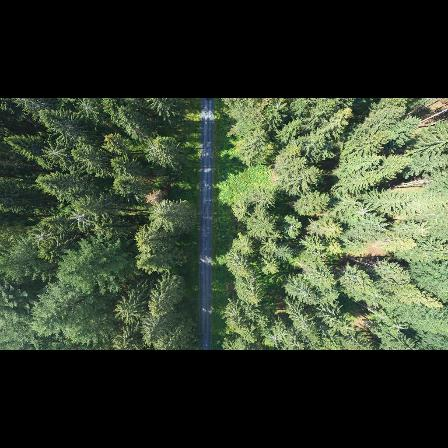Sick: (63, 206, 93, 233), (42, 140, 70, 166), (28, 226, 54, 248), (73, 99, 99, 119), (352, 203, 371, 224)
